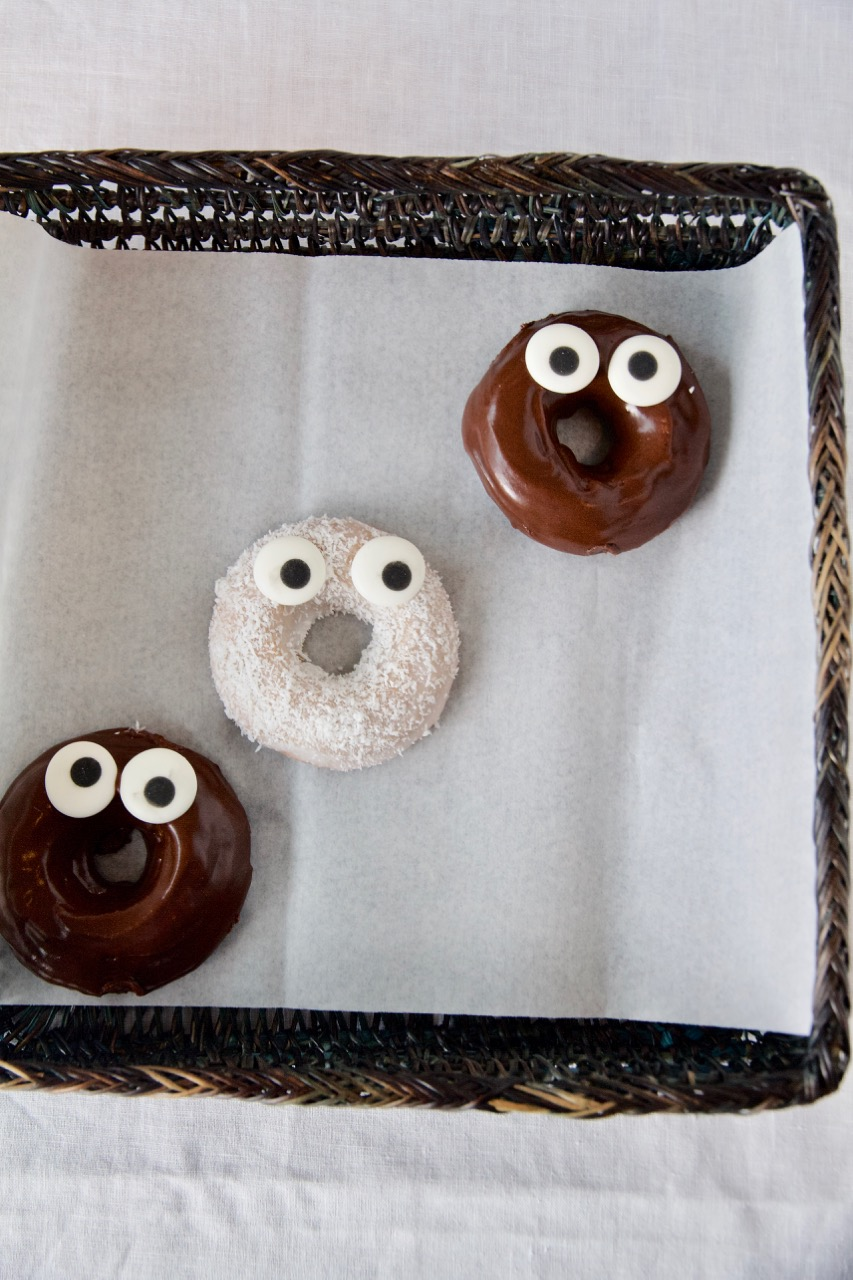Donut: (440, 279, 733, 575), (0, 714, 264, 999), (195, 509, 475, 770)
